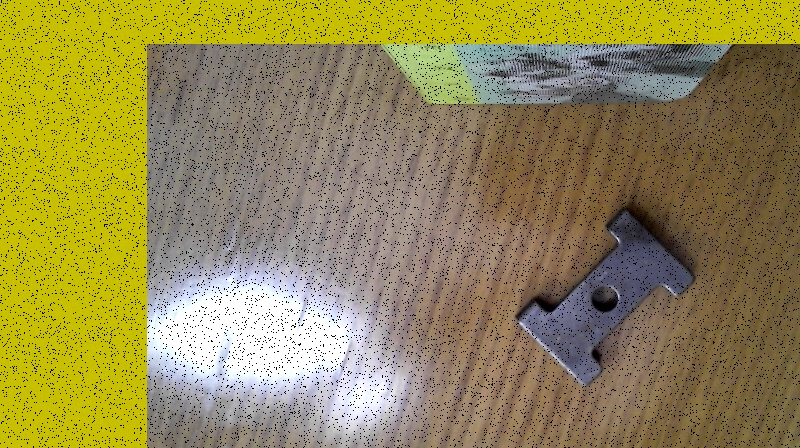O002: (508, 204, 700, 391)
